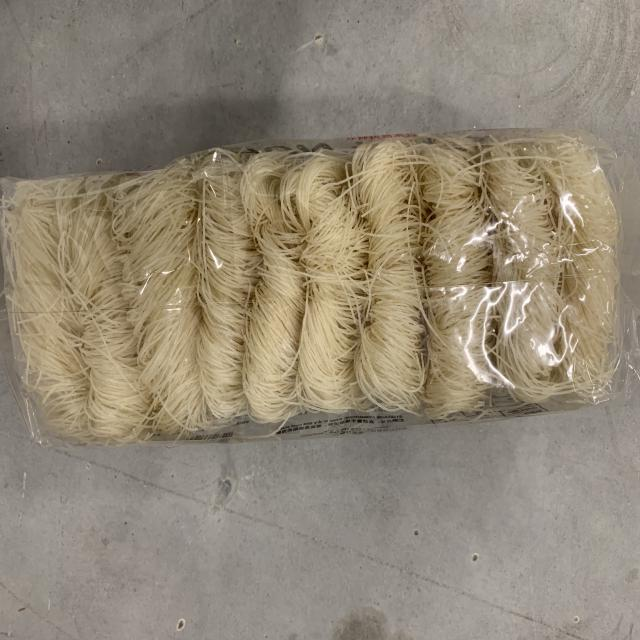object_name: (3, 176, 622, 411)
